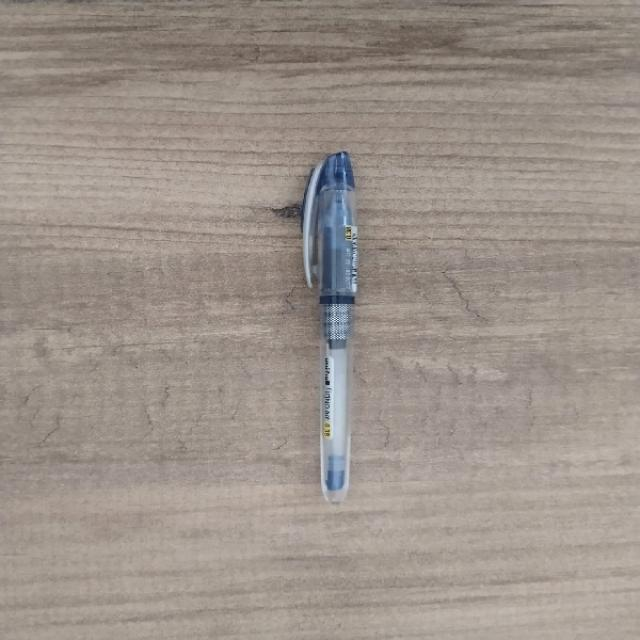pen: (302, 153, 357, 503)
